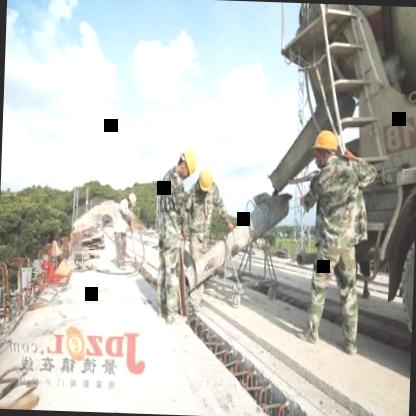helmet: (310, 130, 340, 168), (173, 142, 201, 182), (197, 160, 216, 197), (126, 191, 139, 210)
